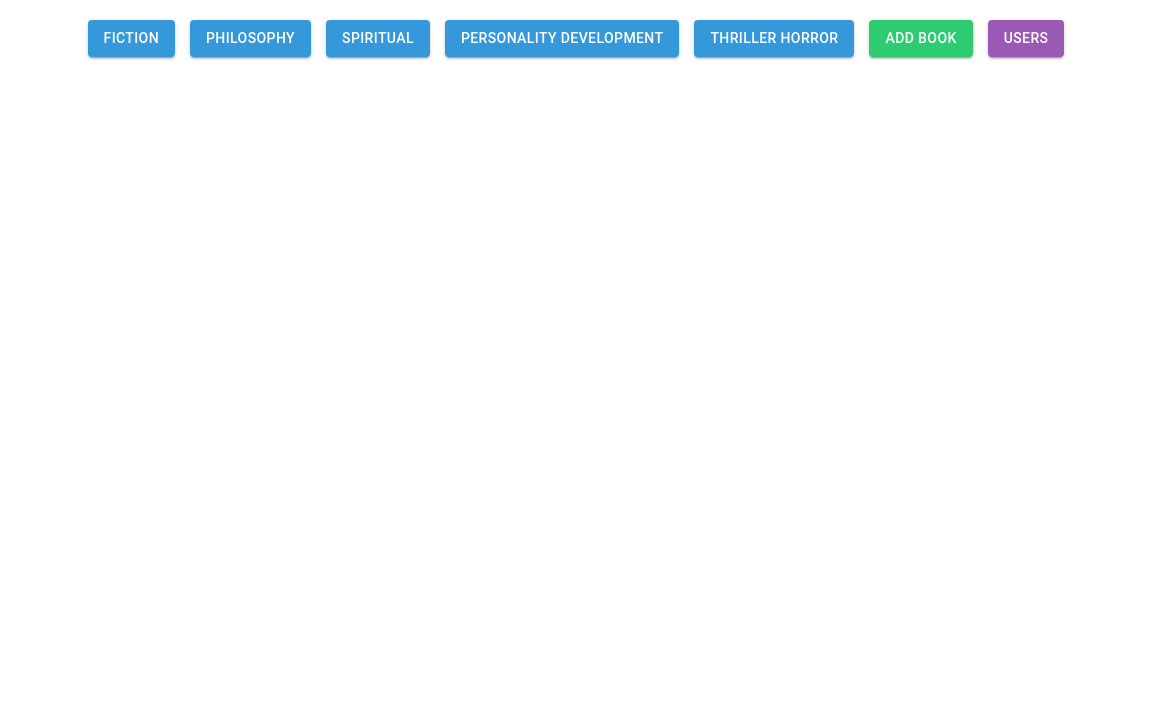
Test: AdminBookCategories Component › should open the add book dialog when clicking 'Add Book'
Click the button with test id "add-book-btn" at (921, 38), box [869,20,973,56]
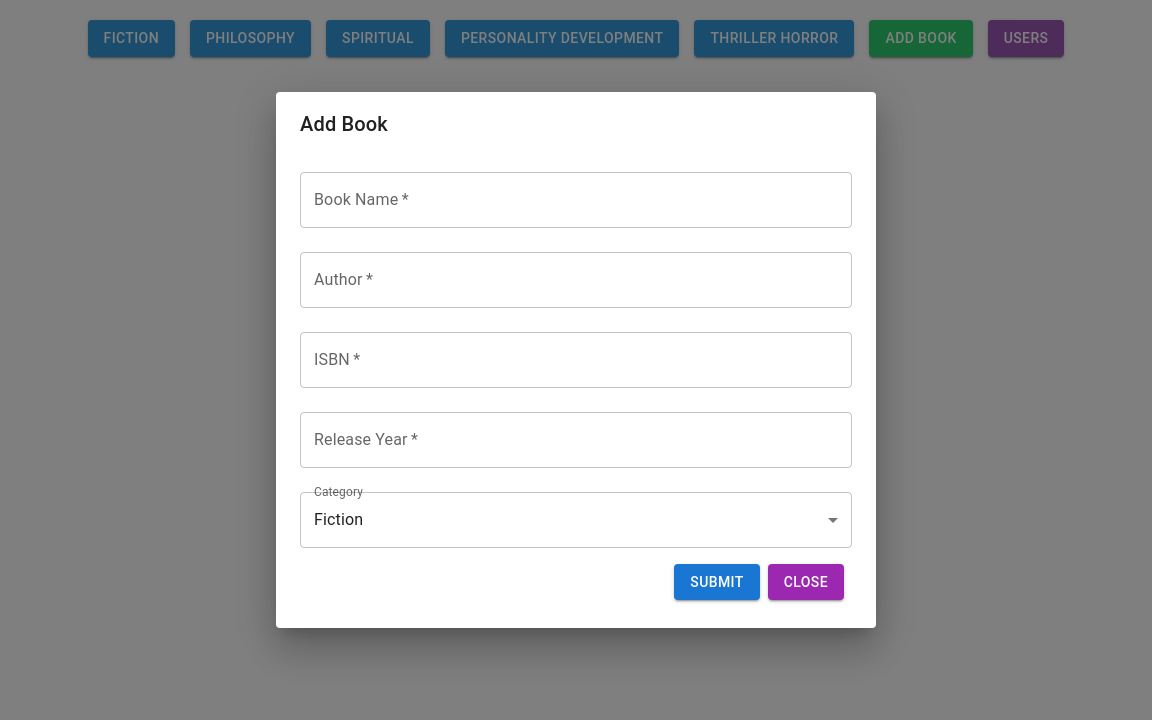
Check: the element with test id "dialog" is shown
